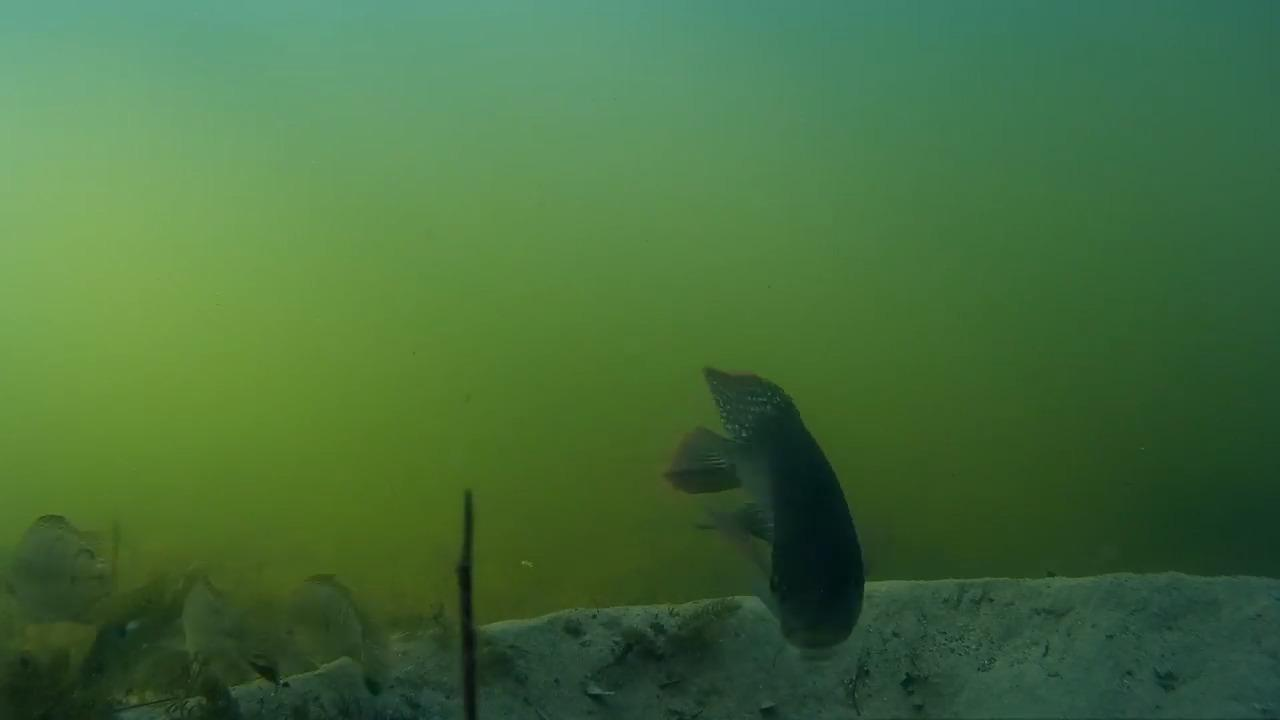Tilapia: (664, 367, 880, 663), (278, 560, 409, 706), (0, 502, 125, 620), (75, 580, 201, 694)
